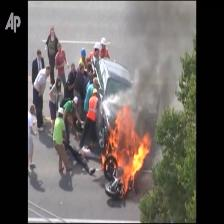fire: (99, 104, 150, 194)
